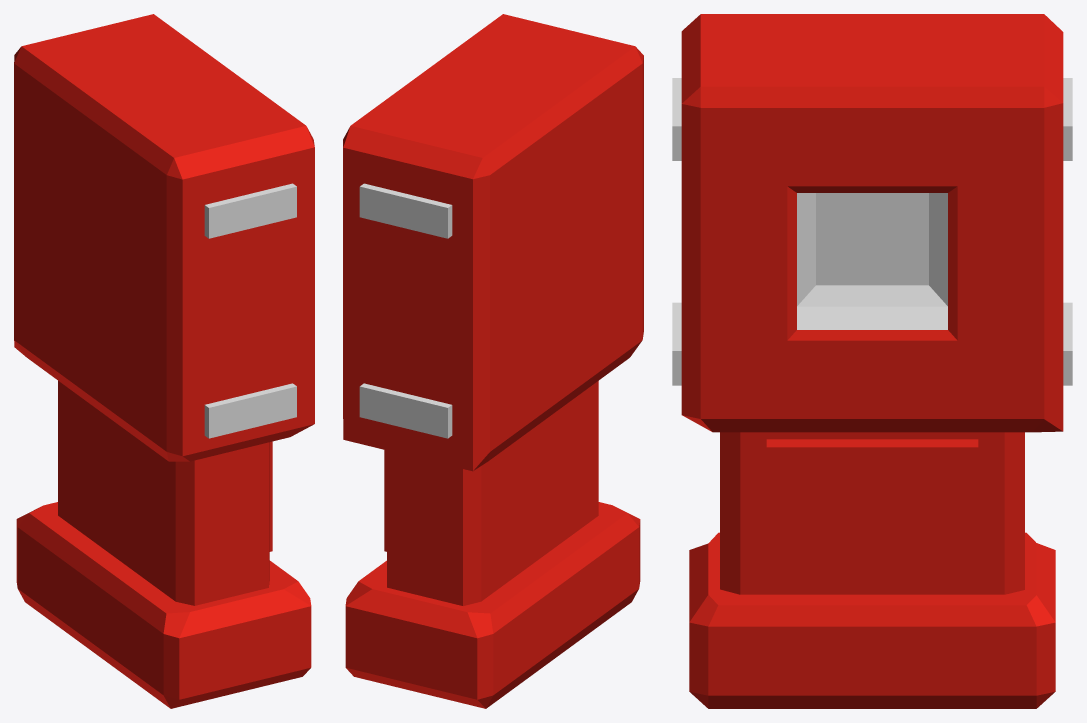
The model's file is Backpack.fbx.
The picture shows the model from 3 angles, left to right: view 1: azimuth 30°, elevation 25°; view 2: azimuth 150°, elevation 25°; view 3: azimuth 270°, elevation 25°; orthographic projection. The views are drawn at different scales.
Parts seen in each view (by area): view 1: Backpack; view 2: Backpack; view 3: Backpack.
Part boxes in pixels (x1,y1,x2,y2): Backpack: [14, 14, 314, 708]; Backpack: [343, 14, 643, 708]; Backpack: [672, 14, 1072, 708].
Bounding box in the file's own units: 100 × 360 × 210.
